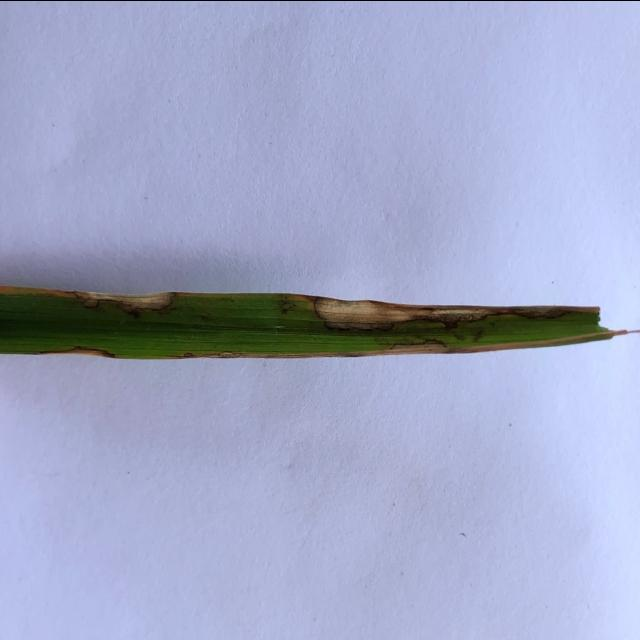Leaf Blight: (288, 294, 600, 330), (269, 331, 615, 357), (0, 281, 176, 310), (167, 349, 344, 357), (73, 347, 105, 355)
